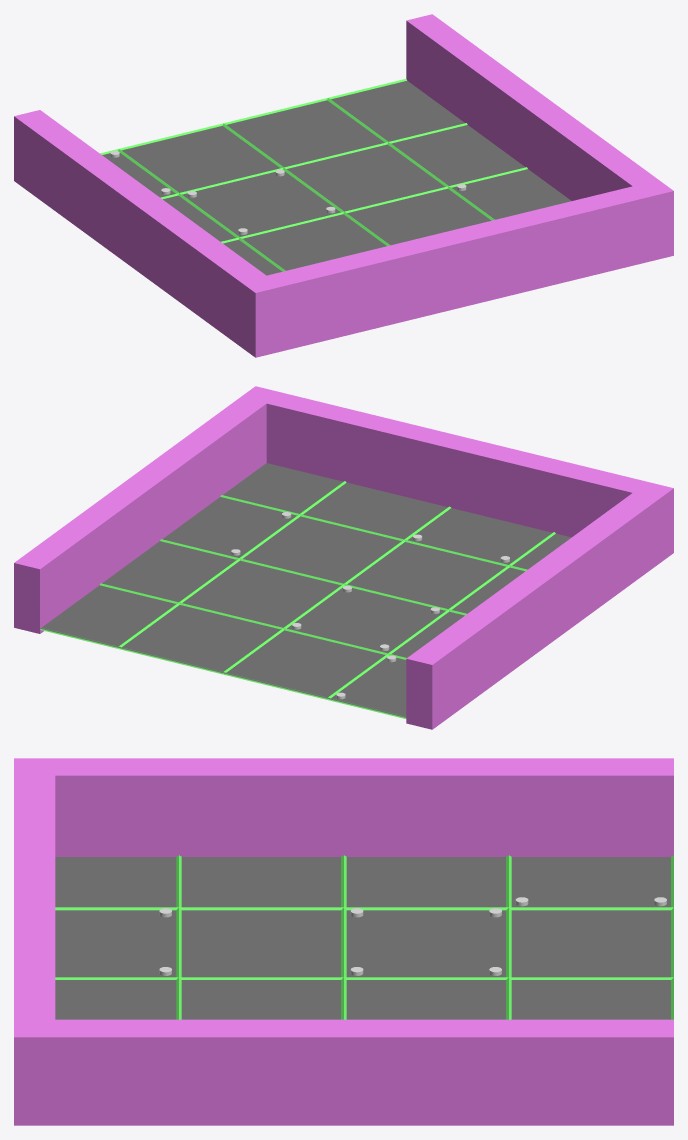
The model's file is UCell.fbx.
The picture shows the model from 3 angles, top to bottom: view 1: azimuth 30°, elevation 25°; view 2: azimuth 150°, elevation 25°; view 3: azimuth 270°, elevation 25°; orthographic projection. The views are drawn at different scales.
Visible parts, largest first — view 1: Cube.003, Base.003, Rim.003; view 2: Cube.003, Base.003, Rim.003, Cylinder.003; view 3: Cube.003, Base.003, Rim.003, Cylinder.003.
Boxes of the visible parts, x1=… form: Cube.003: x1=14, y1=14, x2=673, y2=357; Base.003: x1=102, y1=80, x2=571, y2=275; Rim.003: x1=100, y1=79, x2=527, y2=271; Cube.003: x1=14, y1=386, x2=673, y2=729; Base.003: x1=40, y1=463, x2=571, y2=717; Rim.003: x1=40, y1=481, x2=555, y2=718; Cylinder.003: x1=231, y1=512, x2=509, y2=699; Cube.003: x1=14, y1=758, x2=673, y2=1125; Base.003: x1=55, y1=857, x2=670, y2=1019; Rim.003: x1=55, y1=855, x2=673, y2=1019; Cylinder.003: x1=159, y1=897, x2=666, y2=975.
Bounding box in the file's own units: 100 × 14.8 × 100.
